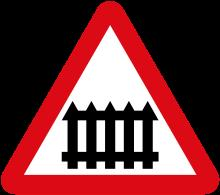Barrier Ahead: (9, 8, 220, 189)
